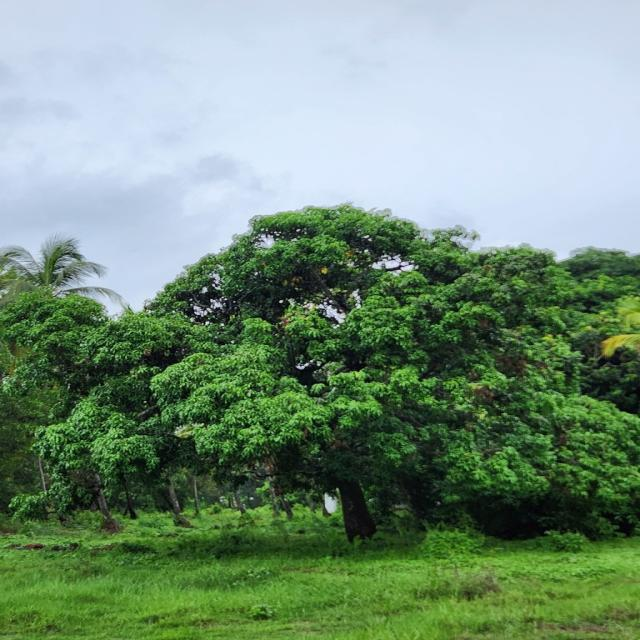Mango-Tree: (121, 203, 628, 541)
